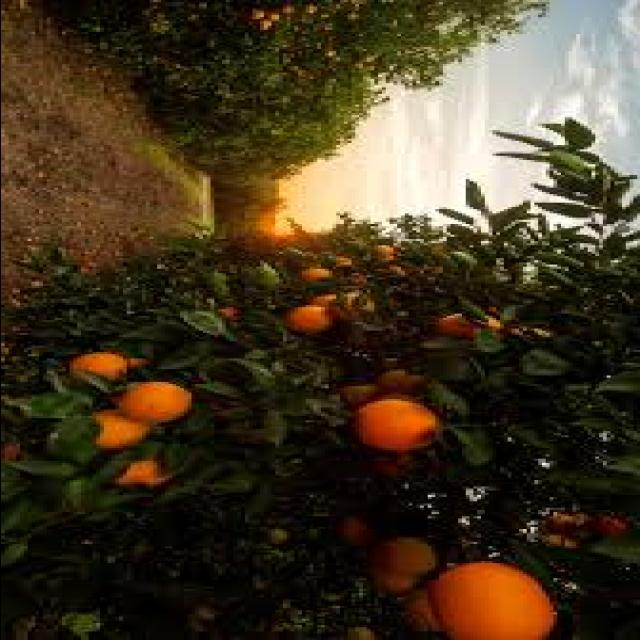orange: (346, 394, 452, 456)
